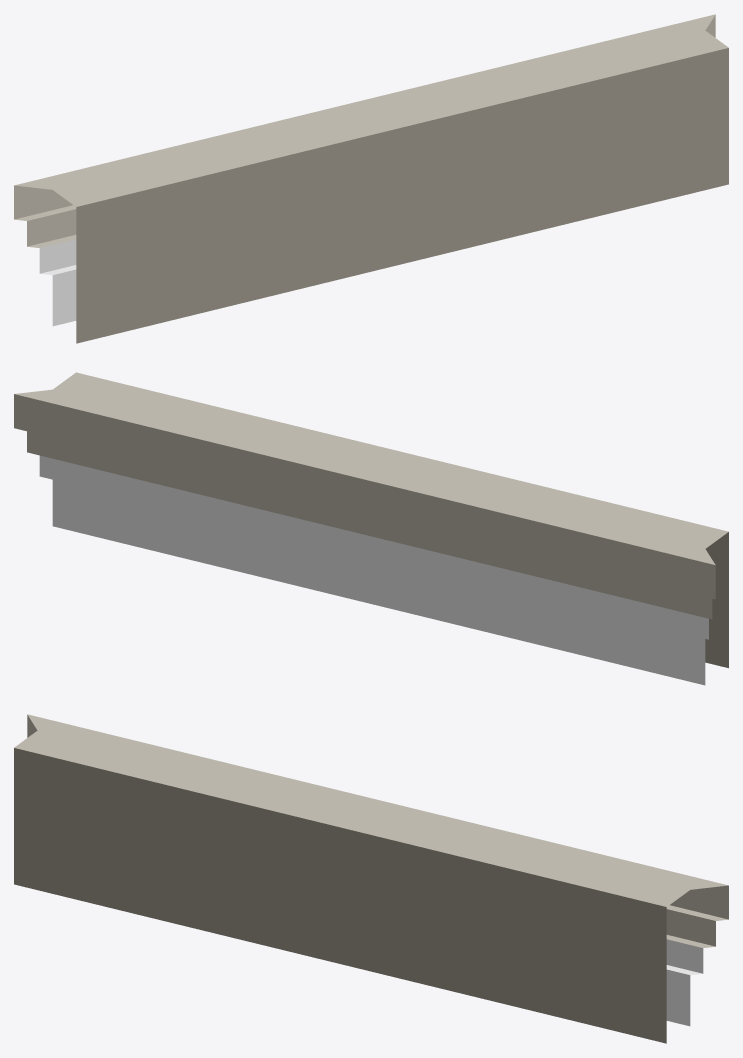
Rendered from apt_parapet.glb.
3 renders of one model, top to bottom at view 1: azimuth 30°, elevation 25°; view 2: azimuth 150°, elevation 25°; view 3: azimuth 330°, elevation 25°, orthographic.
Visible parts, largest first — view 1: apt_parapet__mesh; view 2: apt_parapet__mesh; view 3: apt_parapet__mesh.
Part boxes in pixels (<box>): apt_parapet__mesh: <box>14,14,728,343</box>; apt_parapet__mesh: <box>14,372,728,685</box>; apt_parapet__mesh: <box>14,714,728,1043</box>.
Size of what is drawn, in the model's own units: 4.3 by 0.8 by 0.4.
1 material, 1 textured.
